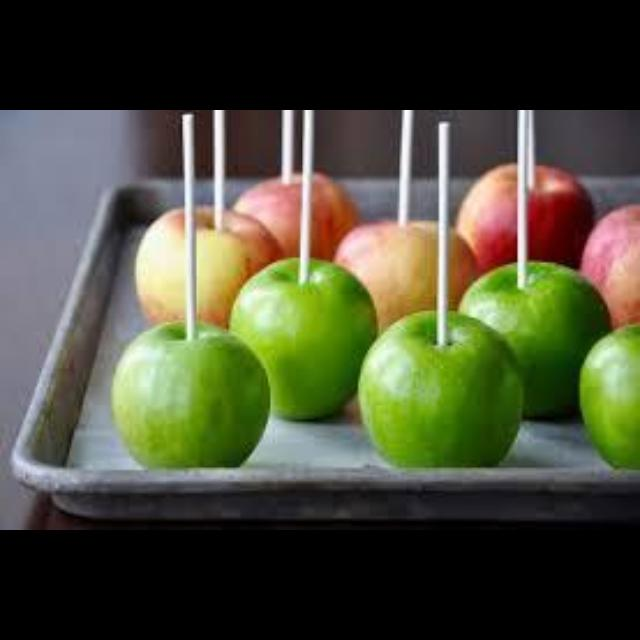apple: (360, 311, 522, 466), (457, 262, 610, 417), (231, 260, 377, 417), (113, 323, 268, 466), (335, 221, 434, 329), (196, 207, 282, 327), (580, 325, 638, 468), (580, 205, 638, 327), (527, 165, 594, 267), (457, 163, 515, 274), (134, 207, 183, 323), (233, 175, 298, 256), (312, 172, 356, 258), (448, 228, 476, 309)
